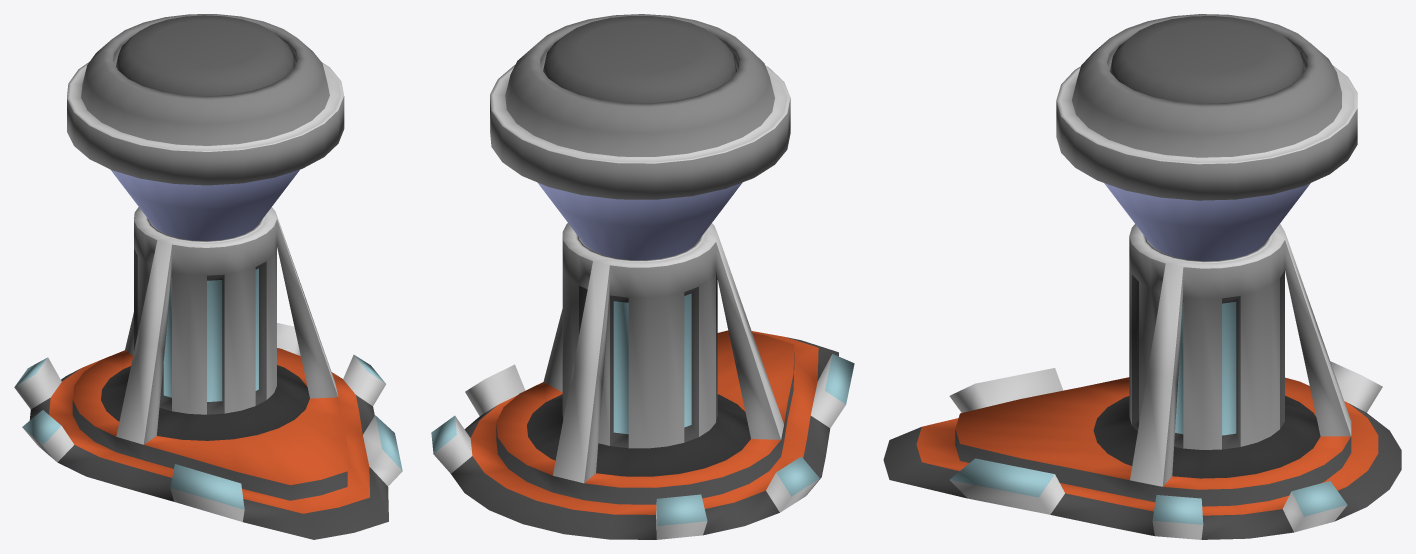
The model's file is MiniConsole.fbx.
The picture shows the model from 3 angles, left to right: view 1: azimuth 30°, elevation 25°; view 2: azimuth 150°, elevation 25°; view 3: azimuth 270°, elevation 25°; orthographic projection. The views are drawn at different scales.
Parts seen in each view (by area): view 1: Cylinder, Cylinder.001; view 2: Cylinder, Cylinder.001; view 3: Cylinder, Cylinder.001.
Boxes of the visible parts, bbox=[...] form: Cylinder: bbox=[14, 14, 402, 539]; Cylinder.001: bbox=[116, 15, 295, 96]; Cylinder: bbox=[431, 14, 854, 539]; Cylinder.001: bbox=[543, 16, 736, 103]; Cylinder: bbox=[883, 14, 1401, 539]; Cylinder.001: bbox=[1109, 16, 1304, 103].
Bounding box in the file's own units: 125 × 139 × 158.
